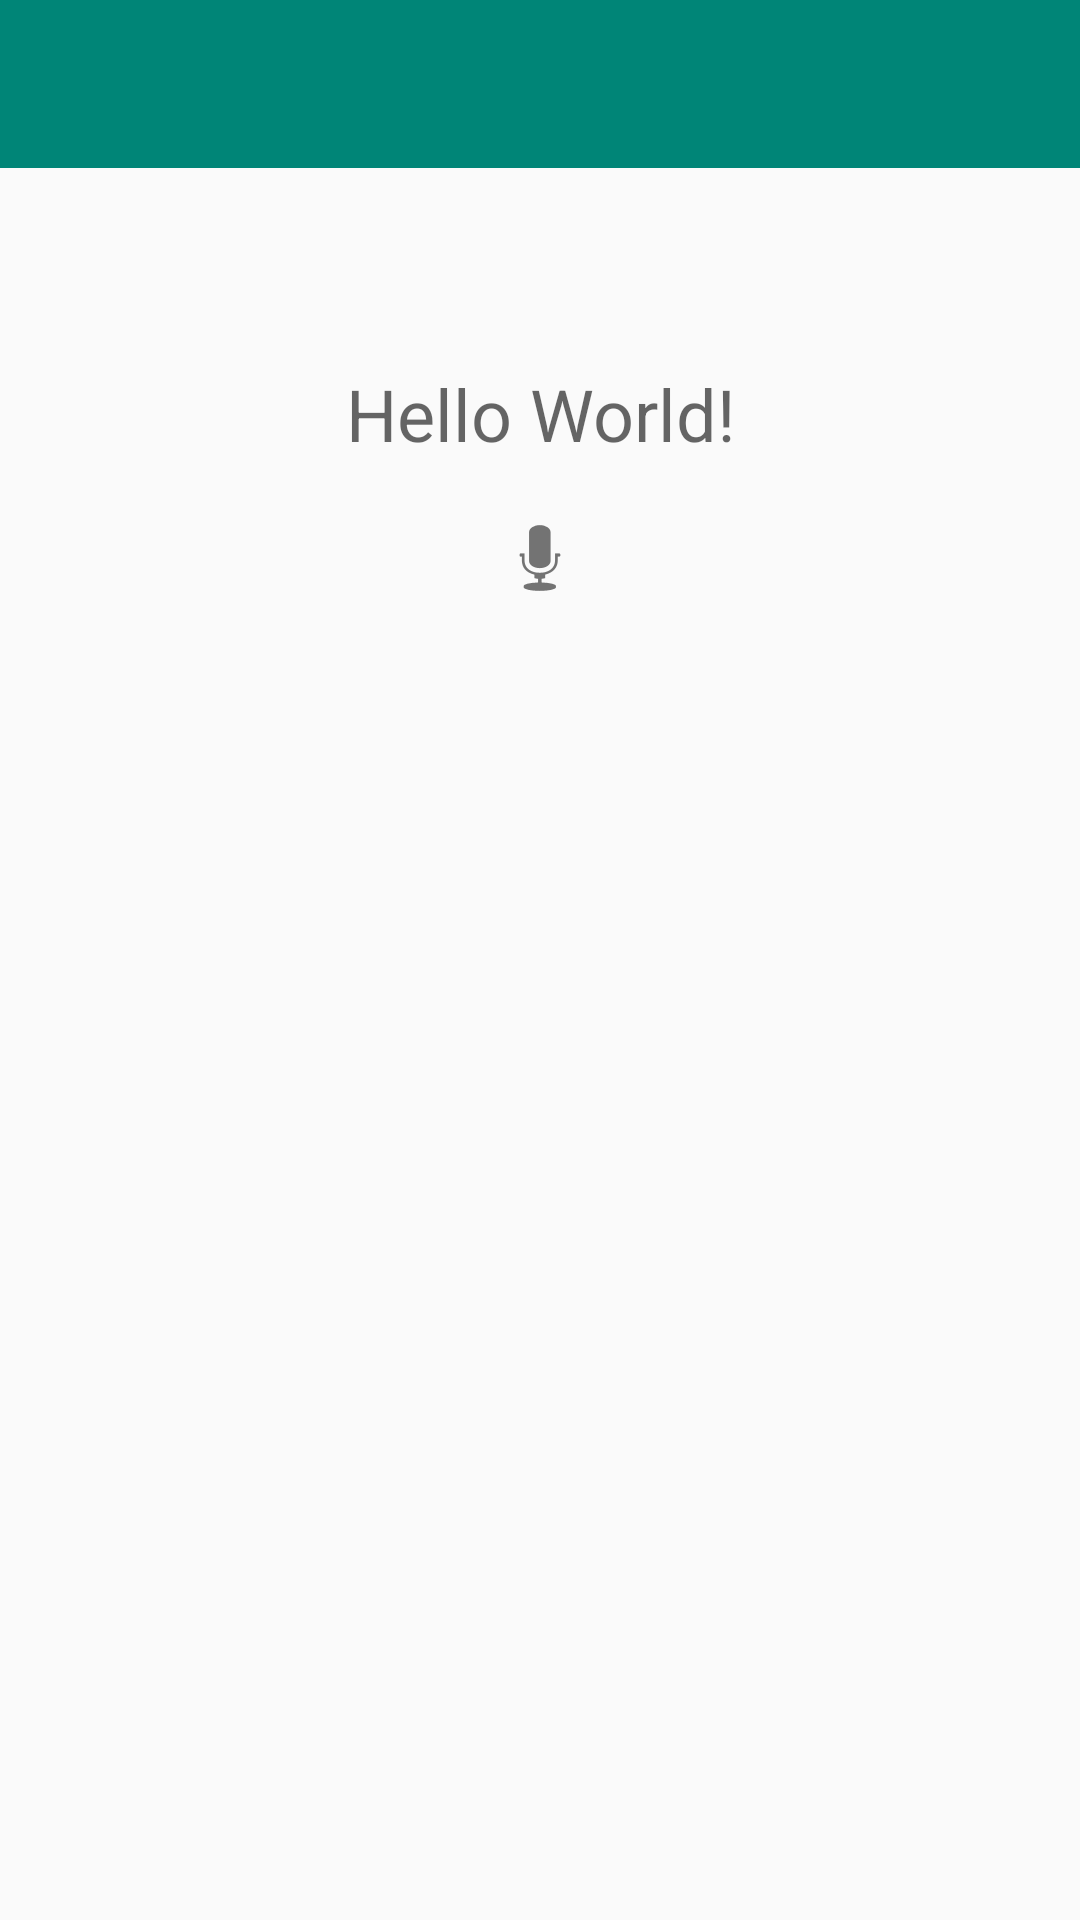

Point at icon controls on the screen. Image size 1080x1920, points as point (x, y).
speak now: point (540, 558)
